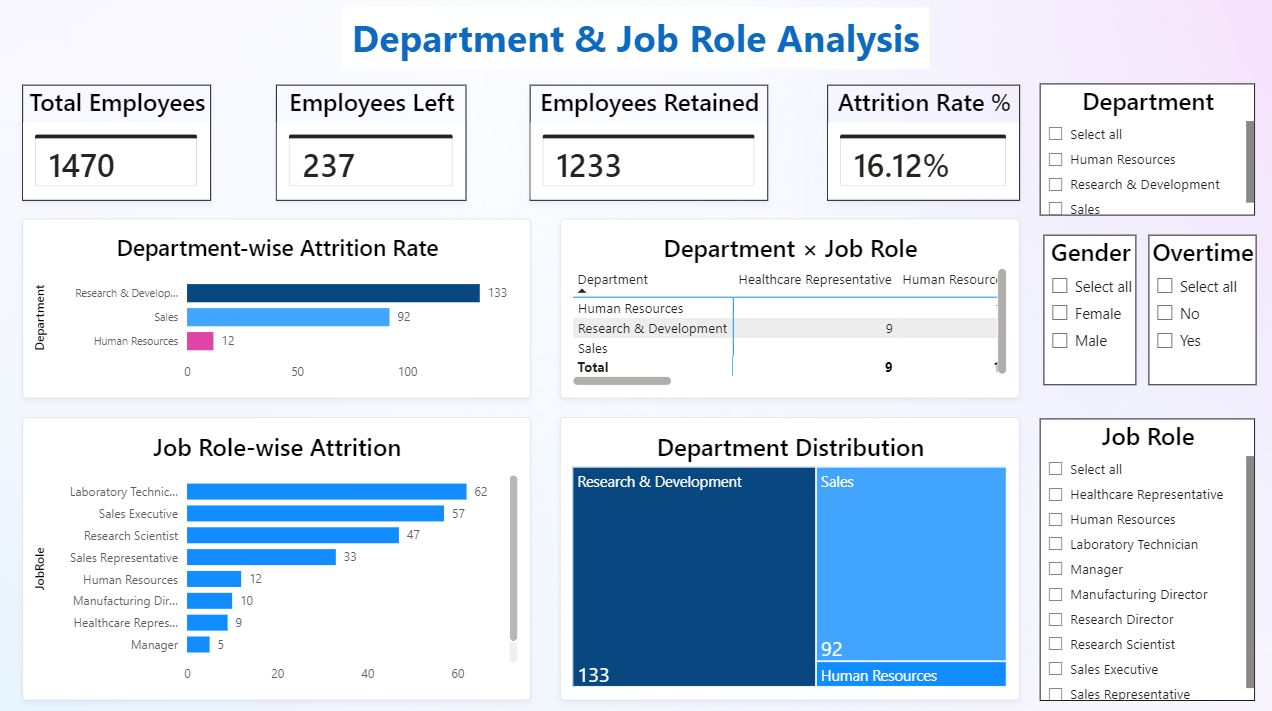

The dashboard page shown, as its layout file describes it:
{"tool":"powerbi","page":{"name":"Department & Job Role Analysis","canvas":[1280,720],"ordinal":1},"visuals":[{"type":"textbox","box":[345.7,11.4,587.1,61.4],"z":0},{"type":"cardVisual","title":"Total Employees","fields":{"Data":["Measures (2).Total Employees"]},"box":[25.7,88.6,188.6,115.7],"z":1000},{"type":"cardVisual","title":"Employees Left","fields":{"Data":["Measures (2).Employees Left"]},"box":[280,88.6,190,115.7],"z":2000},{"type":"cardVisual","title":"Employees Retained","fields":{"Data":["Measures (2).Employees Retained"]},"box":[534.3,88.6,238.6,115.7],"z":3000},{"type":"cardVisual","title":"Attrition Rate %","fields":{"Data":["Measures (2).Attrition Rate %"]},"box":[831.4,88.6,192.9,115.7],"z":4000},{"type":"clusteredBarChart","title":"Department-wise Attrition Rate","fields":{"Category":["Palo Alto Networks.Department"],"Y":["Measures (2).Employees Left"]},"box":[25.7,222.6,508.7,179.8],"z":5000},{"type":"clusteredBarChart","title":"Job Role-wise Attrition","fields":{"Category":["Palo Alto Networks.JobRole"],"Y":["Measures (2).Employees Left"]},"box":[25.7,421.4,508.6,282.9],"z":6000},{"type":"pivotTable","title":"Department × Job Role","fields":{"Rows":["Palo Alto Networks.Department"],"Columns":["Palo Alto Networks.JobRole"],"Values":["Measures (2).Employees Left"]},"box":[564.3,222.9,460,180],"z":7000},{"type":"treemap","title":"Department Distribution","fields":{"Values":["Measures (2).Employees Left"],"Group":["Palo Alto Networks.Department"]},"box":[564.3,421.4,460,282.9],"z":8000},{"type":"slicer","title":"Department","fields":{"Values":["Palo Alto Networks.Department"]},"box":[1044.3,88,215.2,132.1],"z":9000},{"type":"slicer","title":"Job Role","fields":{"Values":["Palo Alto Networks.JobRole"]},"box":[1044.3,421.9,215.2,282.5],"z":10000},{"type":"slicer","title":"Gender","fields":{"Values":["Palo Alto Networks.Gender"]},"box":[1048,238.5,92.9,150.4],"z":11000},{"type":"slicer","title":"Overtime","fields":{"Values":["Palo Alto Networks.OverTime"]},"box":[1151.9,238.5,107.6,150.4],"z":12000}]}

Visuals, with their boxes in screenshot pixels (x1, y1, x2, y2), scaled from the page's 1280x720 canvas onto the 1272x711 screenshot:
textbox: bbox=[344, 11, 927, 72]
"Total Employees" cardVisual: bbox=[26, 87, 213, 202]
"Employees Left" cardVisual: bbox=[278, 87, 467, 202]
"Employees Retained" cardVisual: bbox=[531, 87, 768, 202]
"Attrition Rate %" cardVisual: bbox=[826, 87, 1018, 202]
"Department-wise Attrition Rate" clusteredBarChart: bbox=[26, 220, 531, 397]
"Job Role-wise Attrition" clusteredBarChart: bbox=[26, 416, 531, 695]
"Department × Job Role" pivotTable: bbox=[561, 220, 1018, 398]
"Department Distribution" treemap: bbox=[561, 416, 1018, 695]
"Department" slicer: bbox=[1038, 87, 1252, 217]
"Job Role" slicer: bbox=[1038, 417, 1252, 696]
"Gender" slicer: bbox=[1041, 236, 1134, 384]
"Overtime" slicer: bbox=[1145, 236, 1252, 384]
